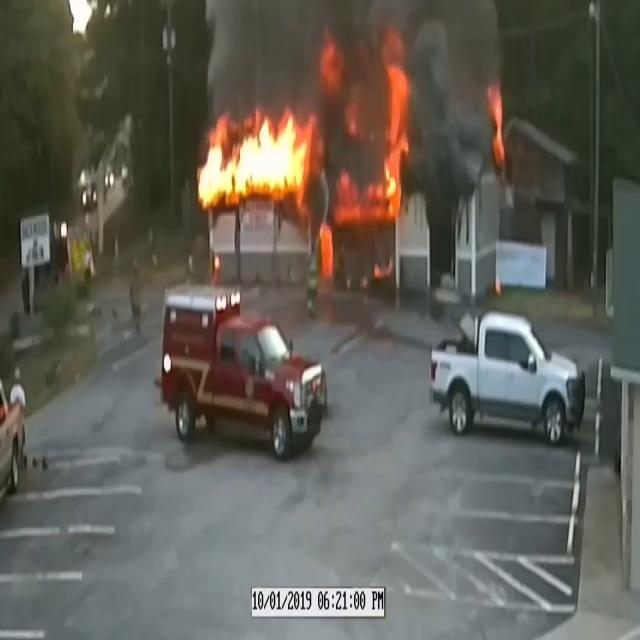Fire: (194, 100, 318, 208), (375, 38, 415, 224)
